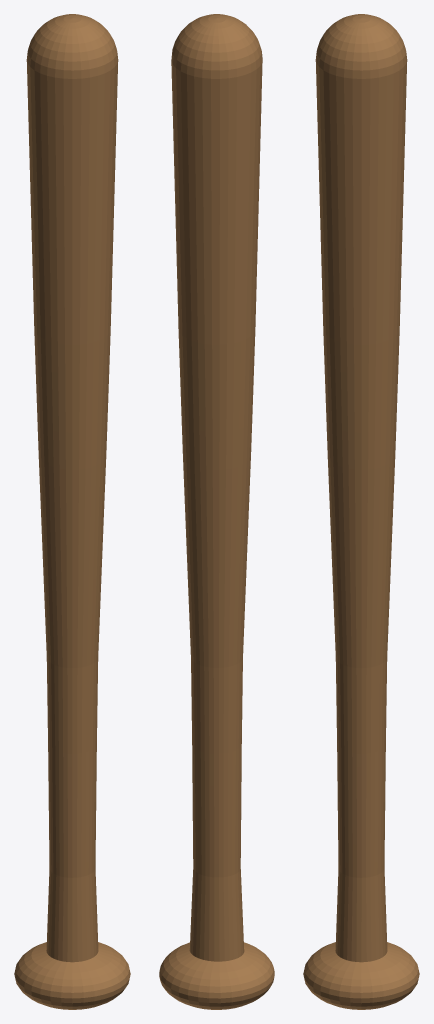
The model's file is baseballschläger Fertig.fbx.
3 renders of one model, left to right at view 1: azimuth 90°, elevation 25°; view 2: azimuth 150°, elevation 25°; view 3: azimuth 270°, elevation 25°, orthographic.
Parts seen in each view (by area): view 1: Kugel; view 2: Kugel; view 3: Kugel.
Part boxes in pixels (box(x1,y1,x2,y2)): Kugel: box(14, 14, 130, 1009); Kugel: box(159, 14, 274, 1009); Kugel: box(303, 14, 419, 1009).
Bounding box in the file's own units: 277 × 2599 × 279.
